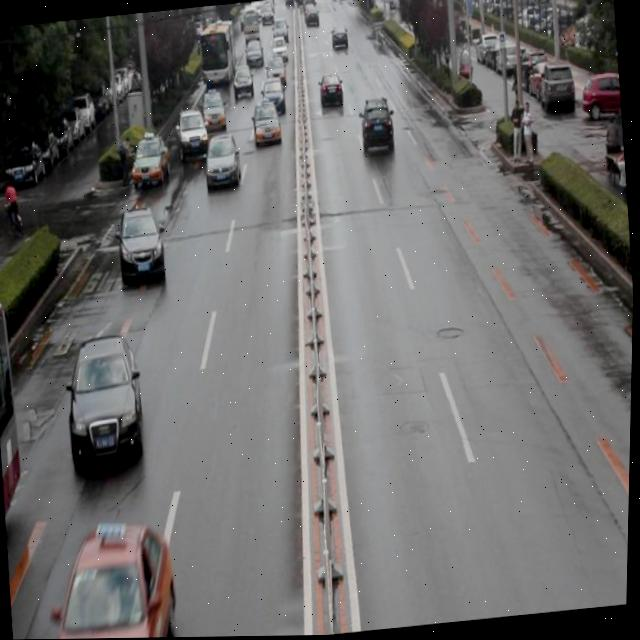car: (40, 519, 183, 639), (61, 331, 150, 471), (114, 204, 169, 284), (130, 128, 173, 188), (202, 134, 244, 192), (357, 95, 395, 154), (174, 106, 210, 159), (250, 102, 282, 146), (200, 87, 227, 132), (317, 75, 344, 109), (262, 79, 286, 115), (232, 68, 254, 99)
van: (0, 296, 37, 604)
